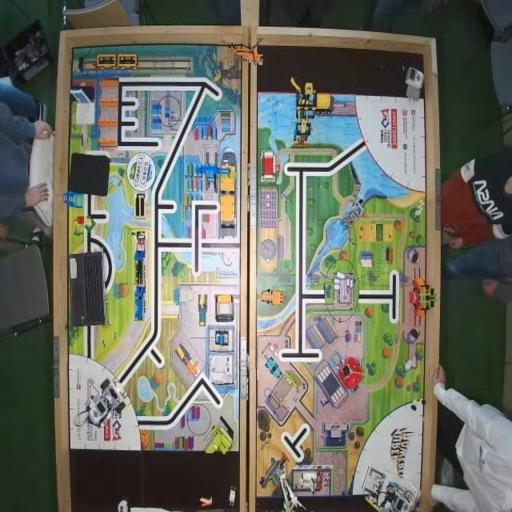lego_robot: (361, 465, 420, 512), (85, 378, 126, 428)
